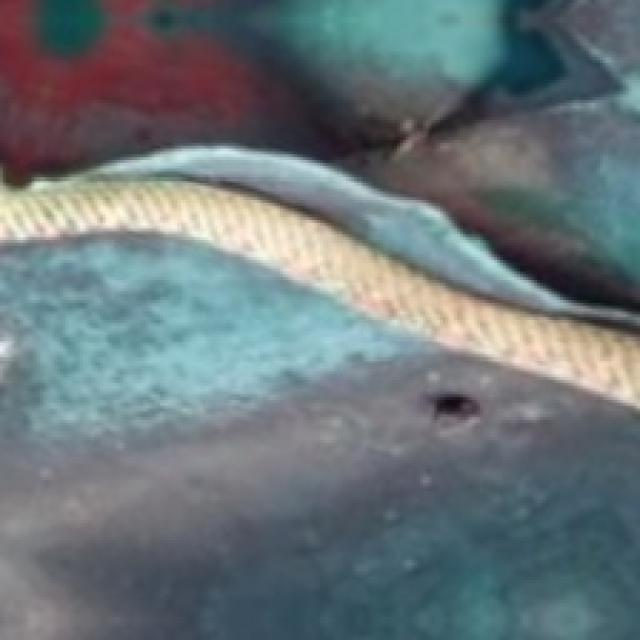paradise tree snake: (0, 271, 637, 637), (0, 0, 637, 306), (0, 343, 637, 637), (94, 146, 637, 326), (0, 237, 377, 363), (120, 149, 426, 257), (29, 340, 120, 420), (426, 206, 463, 246)
